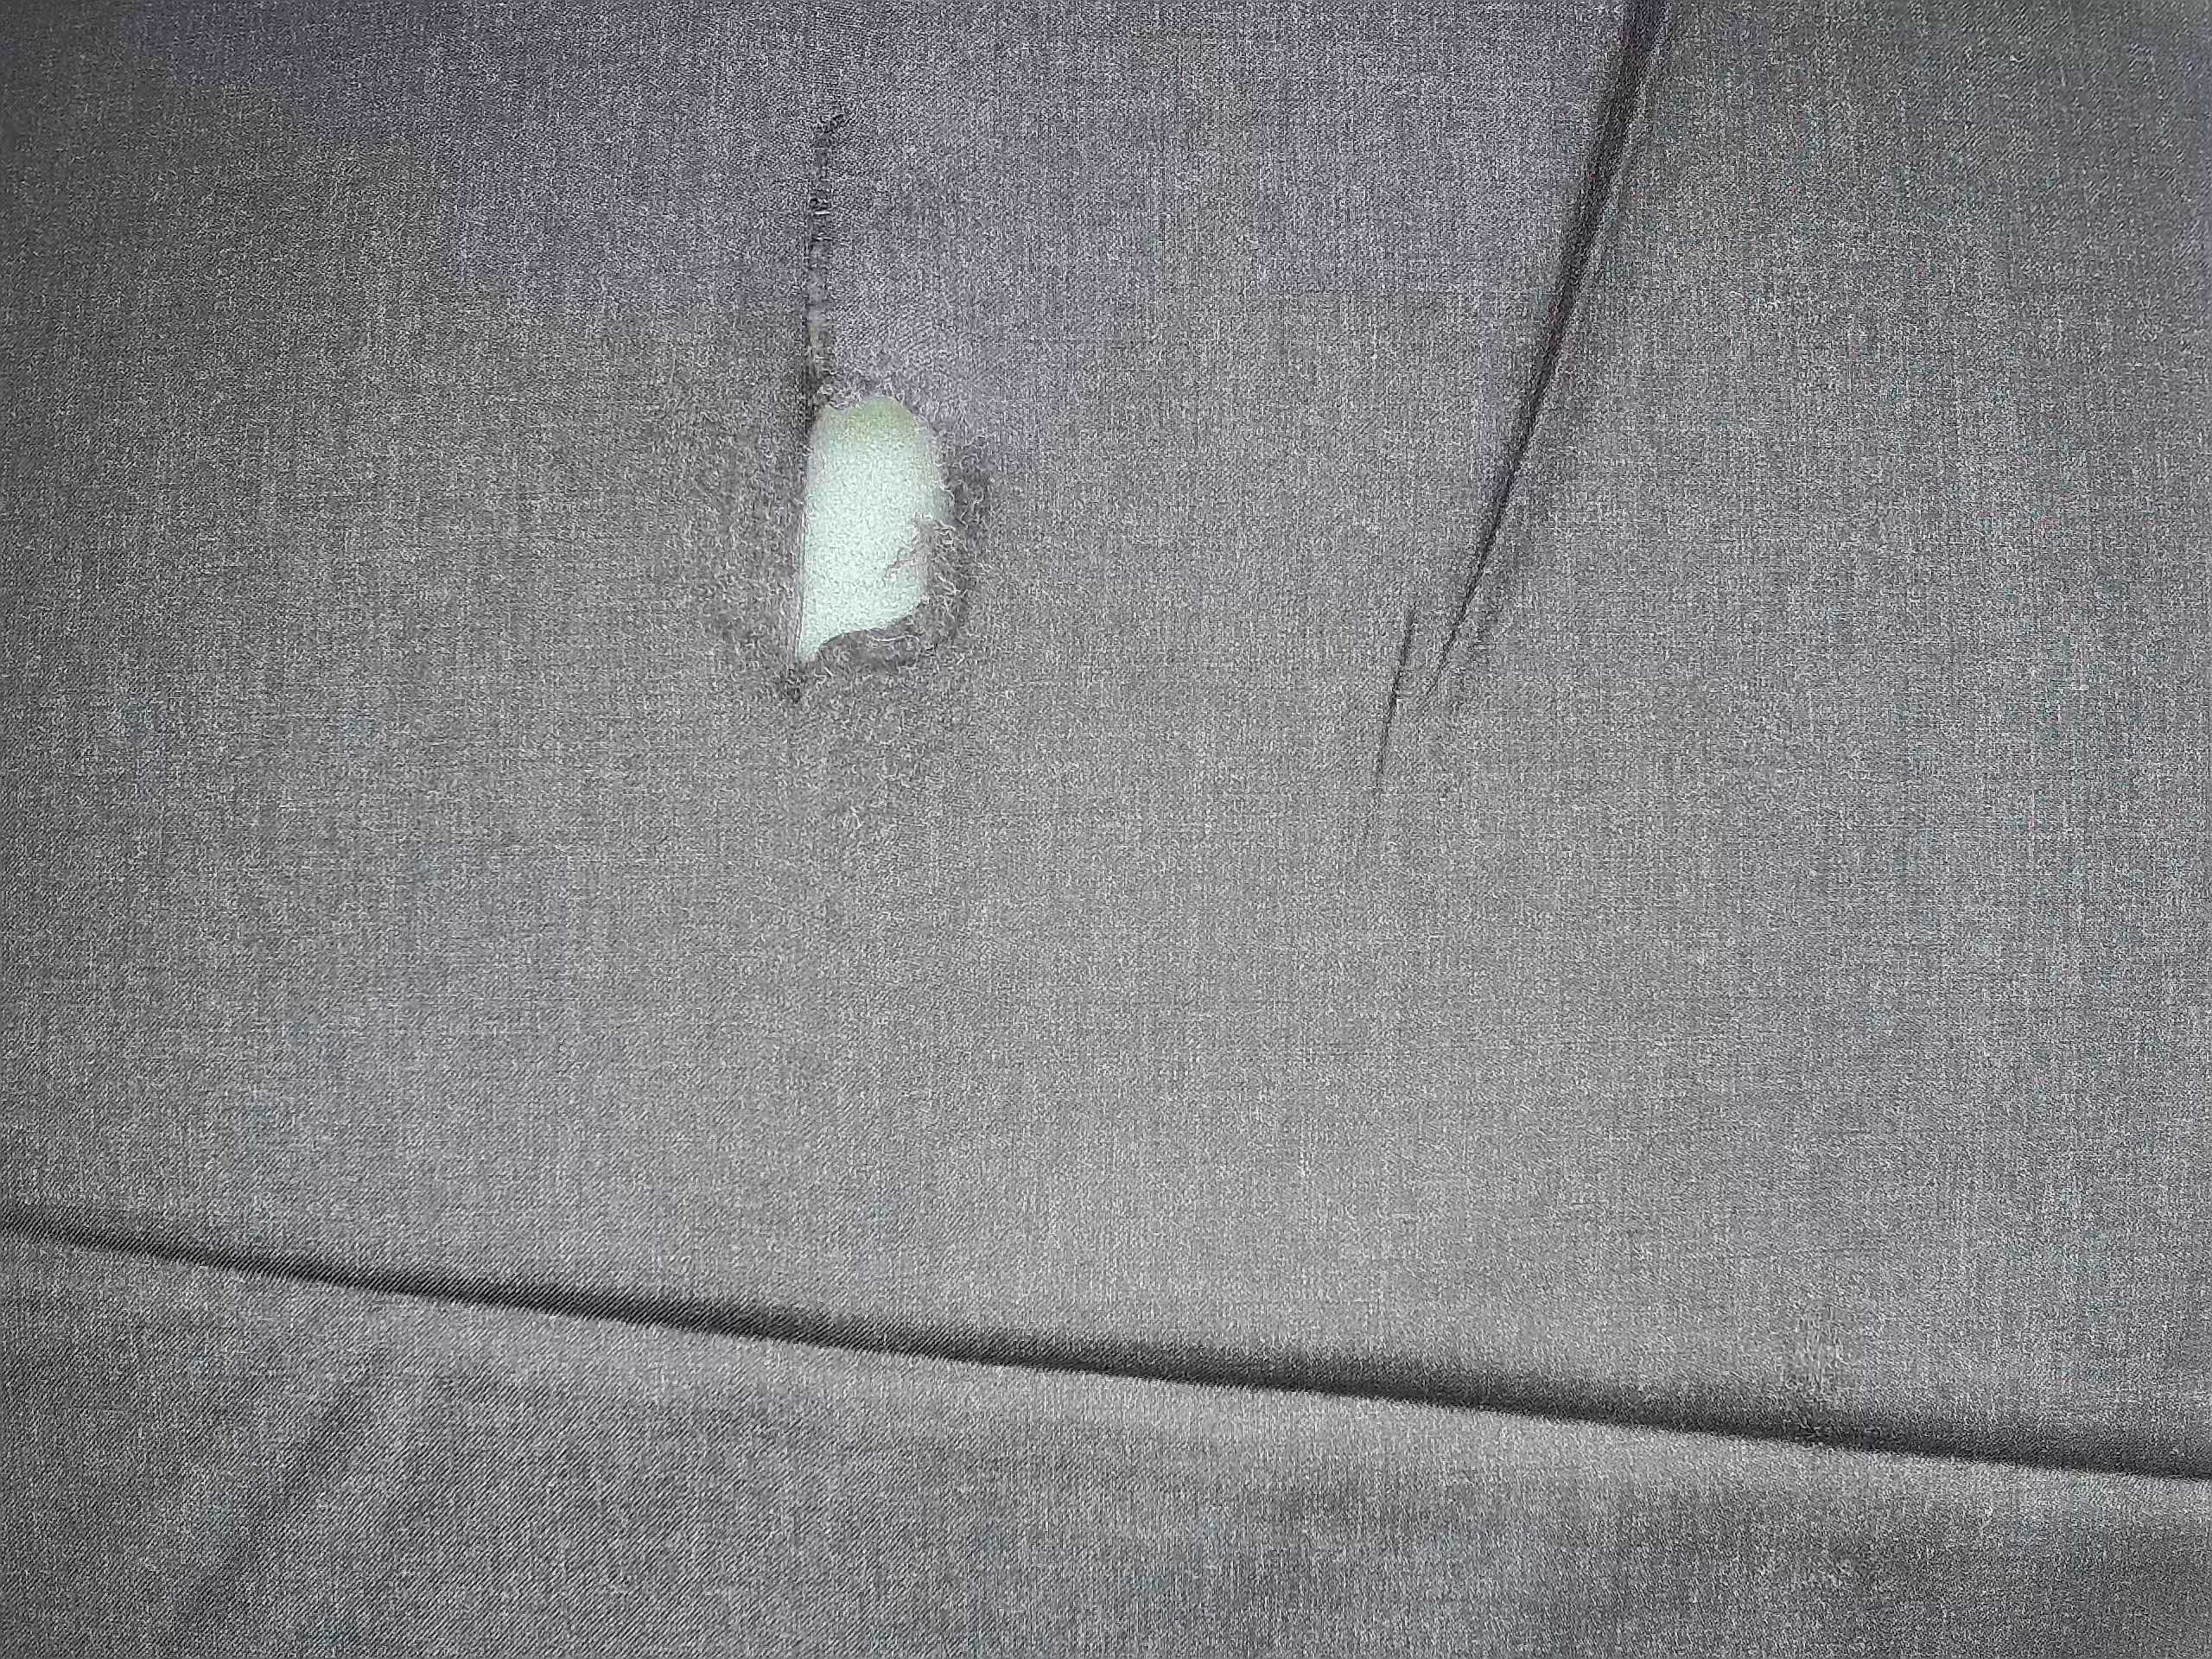puncture-hole: (725, 73, 1012, 751)
